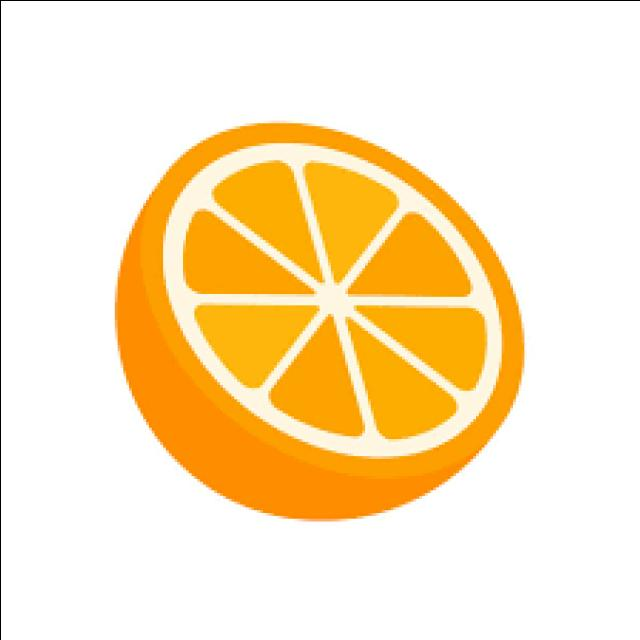orange: (85, 114, 518, 518)
